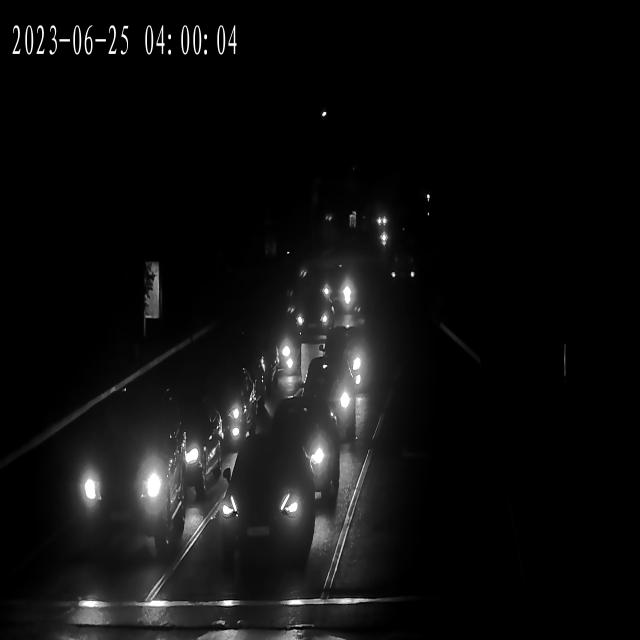Car: (60, 407, 189, 537), (212, 453, 317, 575), (171, 366, 266, 452), (152, 391, 229, 496), (297, 363, 365, 441), (234, 319, 306, 381), (315, 334, 374, 398), (314, 269, 361, 311), (291, 296, 336, 336), (386, 254, 421, 287), (368, 214, 388, 231)
